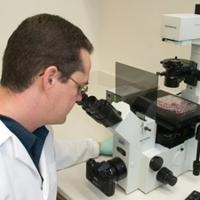person without safety: (1, 11, 97, 183)
